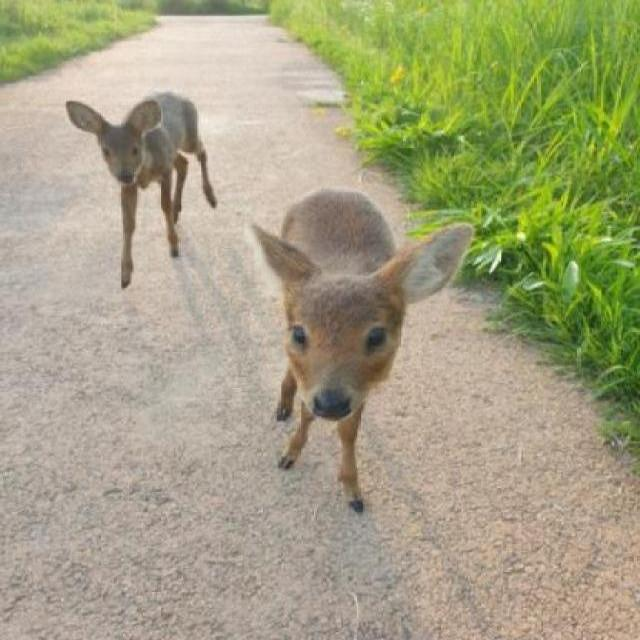deer: (250, 159, 479, 524), (60, 74, 228, 295)
